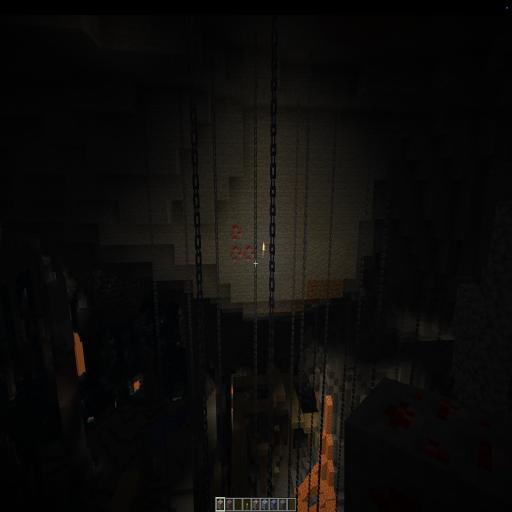redstone ore: (230, 220, 259, 265)
